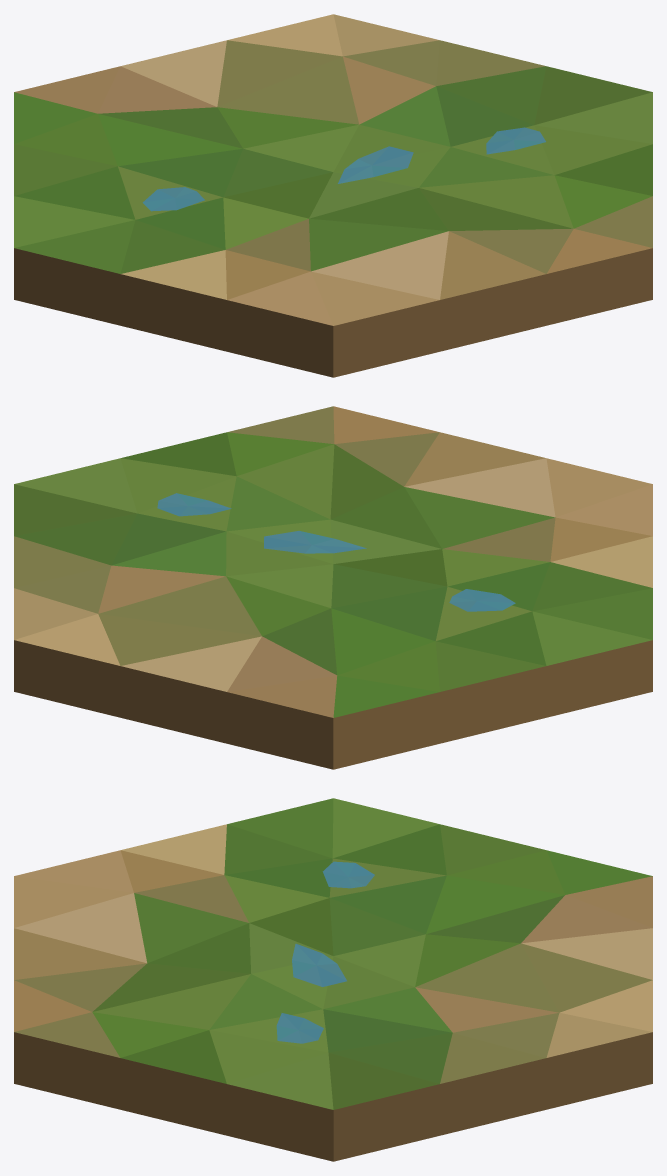
File: Flood plains-Far.glb
The picture shows the model from 3 angles, top to bottom: view 1: azimuth 30°, elevation 25°; view 2: azimuth 150°, elevation 25°; view 3: azimuth 270°, elevation 25°; orthographic projection.
Parts seen in each view (by area): view 1: Flood plains-Far; view 2: Flood plains-Far; view 3: Flood plains-Far.
Part boxes in pixels (x1,y1,x2,y2): Flood plains-Far: (14, 14, 652, 377); Flood plains-Far: (14, 406, 652, 769); Flood plains-Far: (14, 798, 652, 1161).
Bounding box in the file's own units: 1.94 × 0.16 × 1.68.
